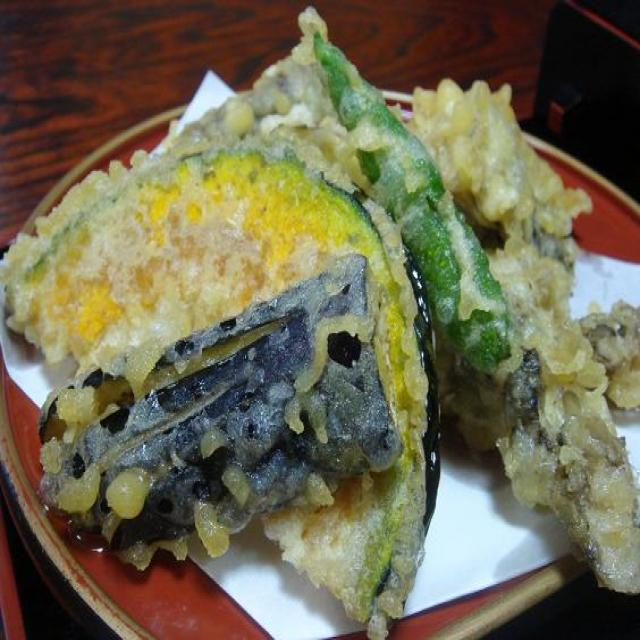蔬菜料理: (0, 32, 640, 640)
